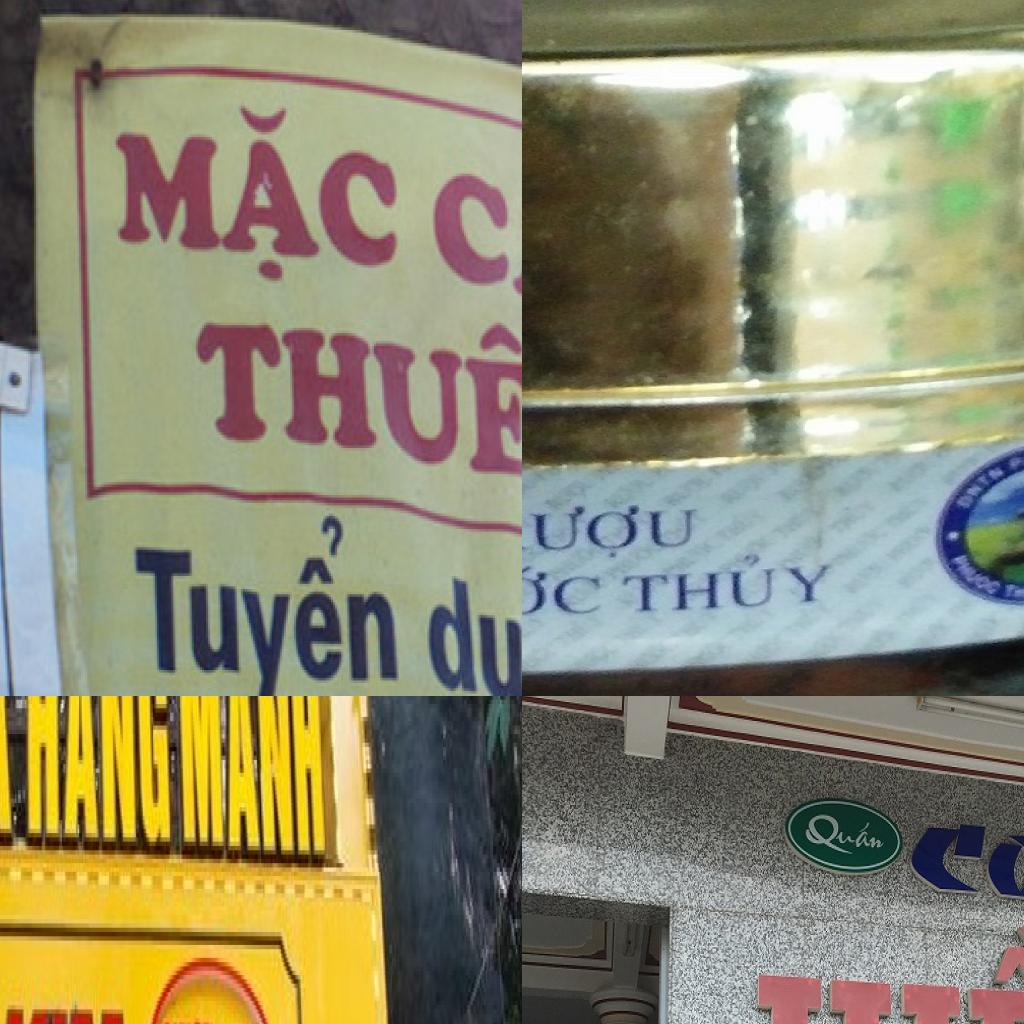text: (185, 291, 522, 502), (108, 98, 402, 294), (124, 505, 406, 696), (745, 910, 1024, 1024), (174, 696, 327, 872), (22, 696, 173, 858), (429, 126, 522, 330), (618, 549, 841, 617), (415, 565, 522, 696), (906, 807, 1024, 920), (522, 504, 703, 563), (522, 566, 608, 618), (801, 810, 887, 858), (946, 551, 1005, 601), (952, 462, 1008, 511), (1005, 444, 1024, 473), (1003, 581, 1024, 599)
